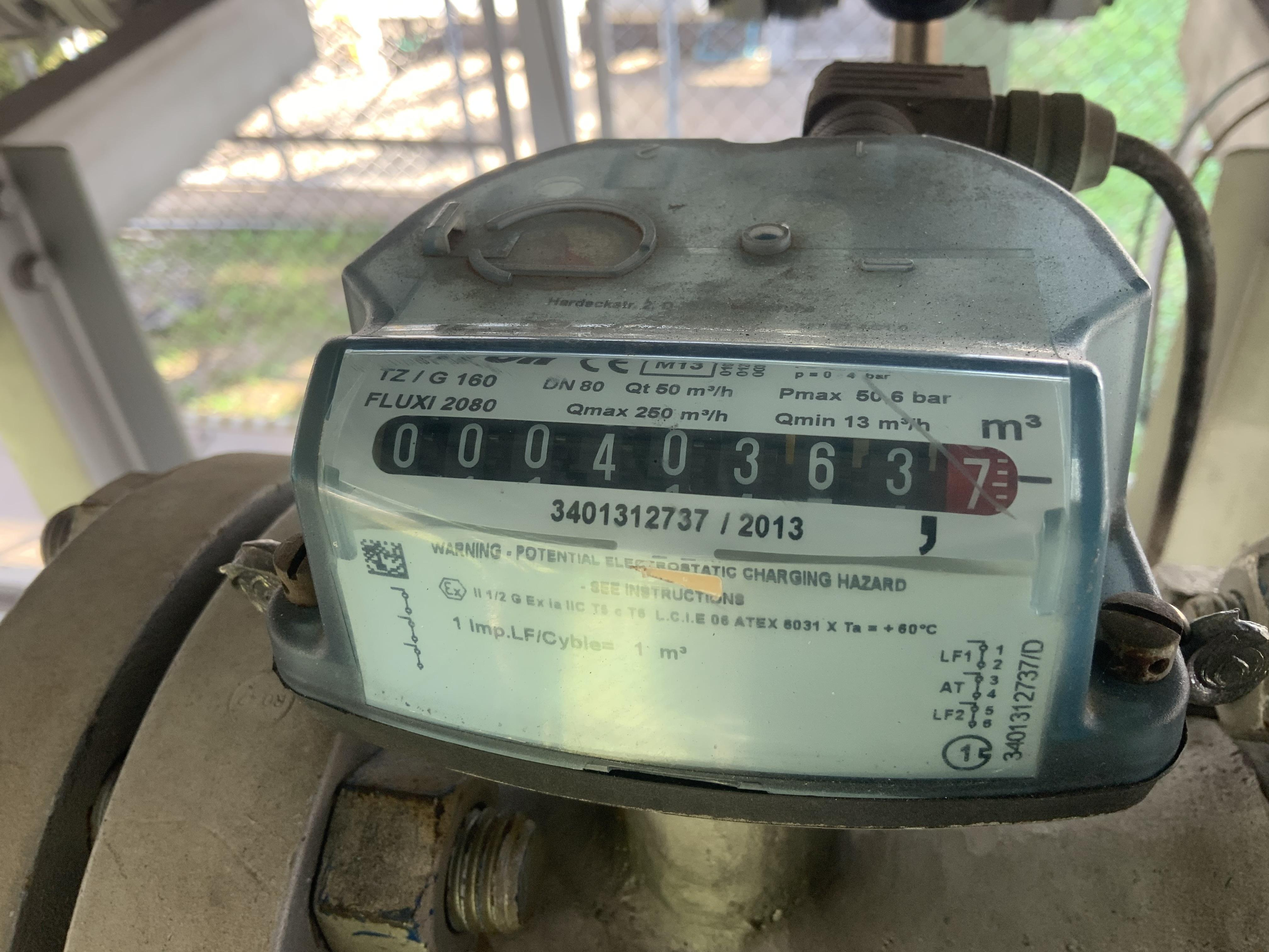analog_dial: (363, 392, 1058, 538)
